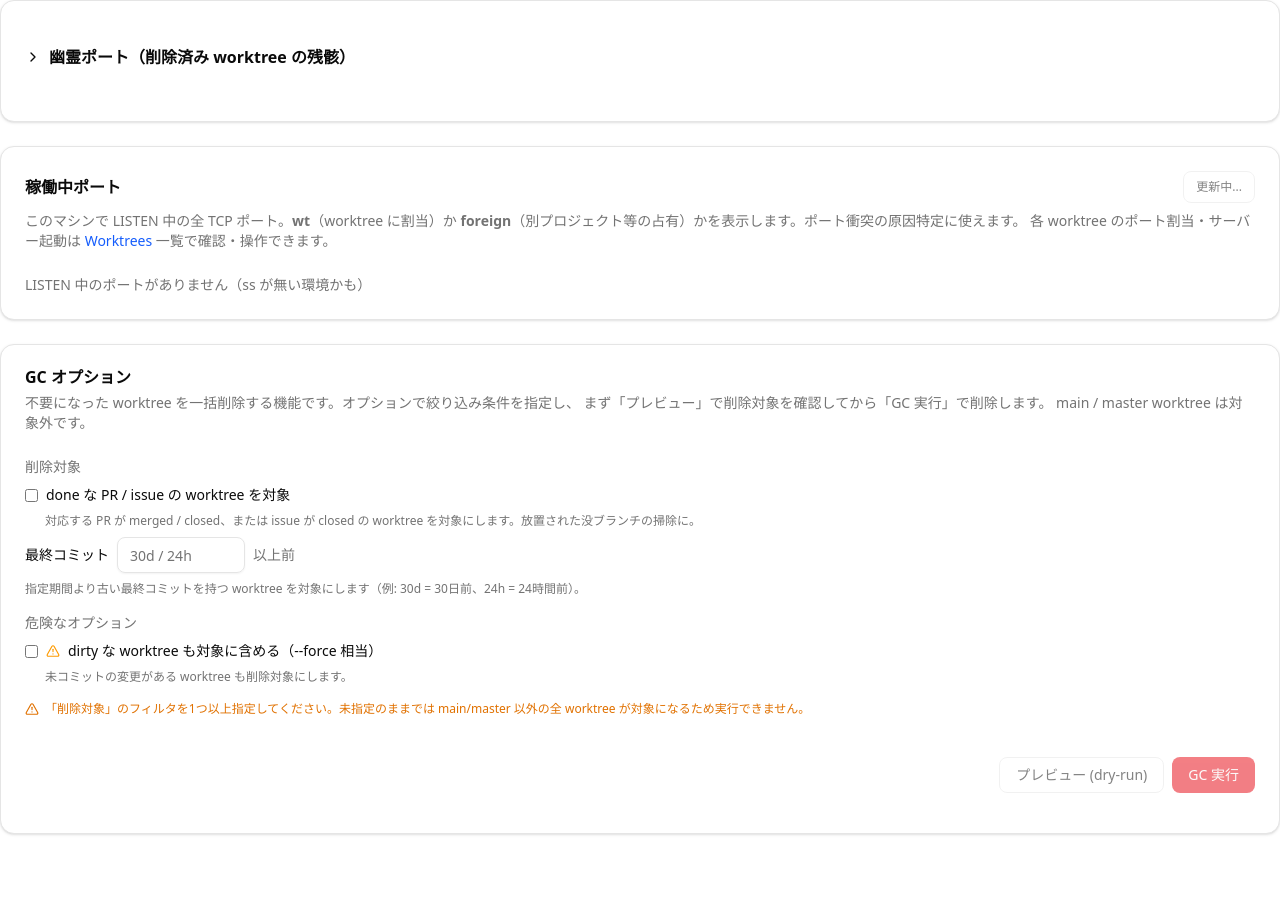
Test: MaintenancePage (Ports + GC combined) › labels the output as GC実行結果 after an actual (non-dry-run) execution
Click the checkbox labelled "done な PR / issue の worktree を対象" at (32, 495), box [25, 488, 38, 502]
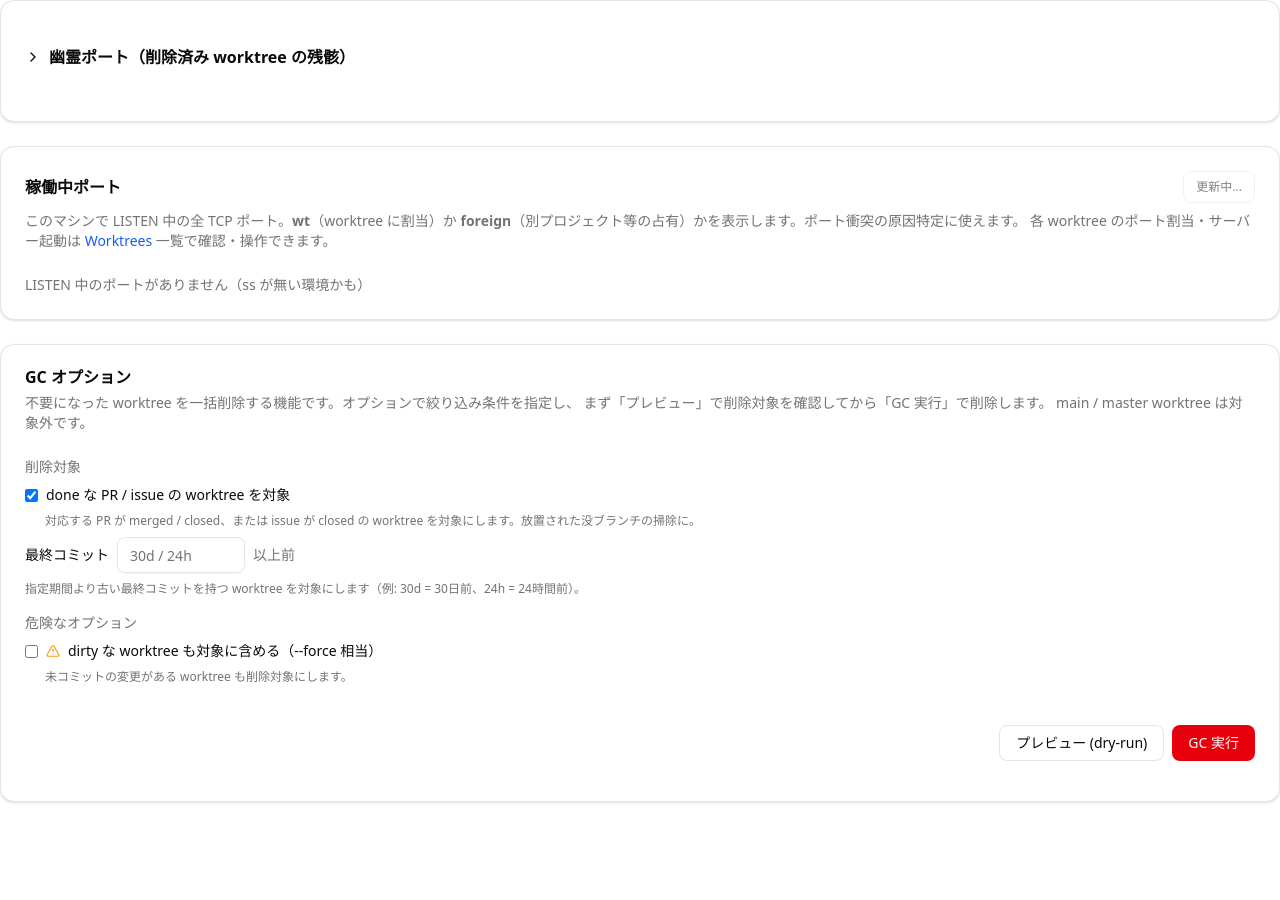
Click the button "GC 実行" at (1214, 743), box [1172, 725, 1255, 761]
(page scrolled)
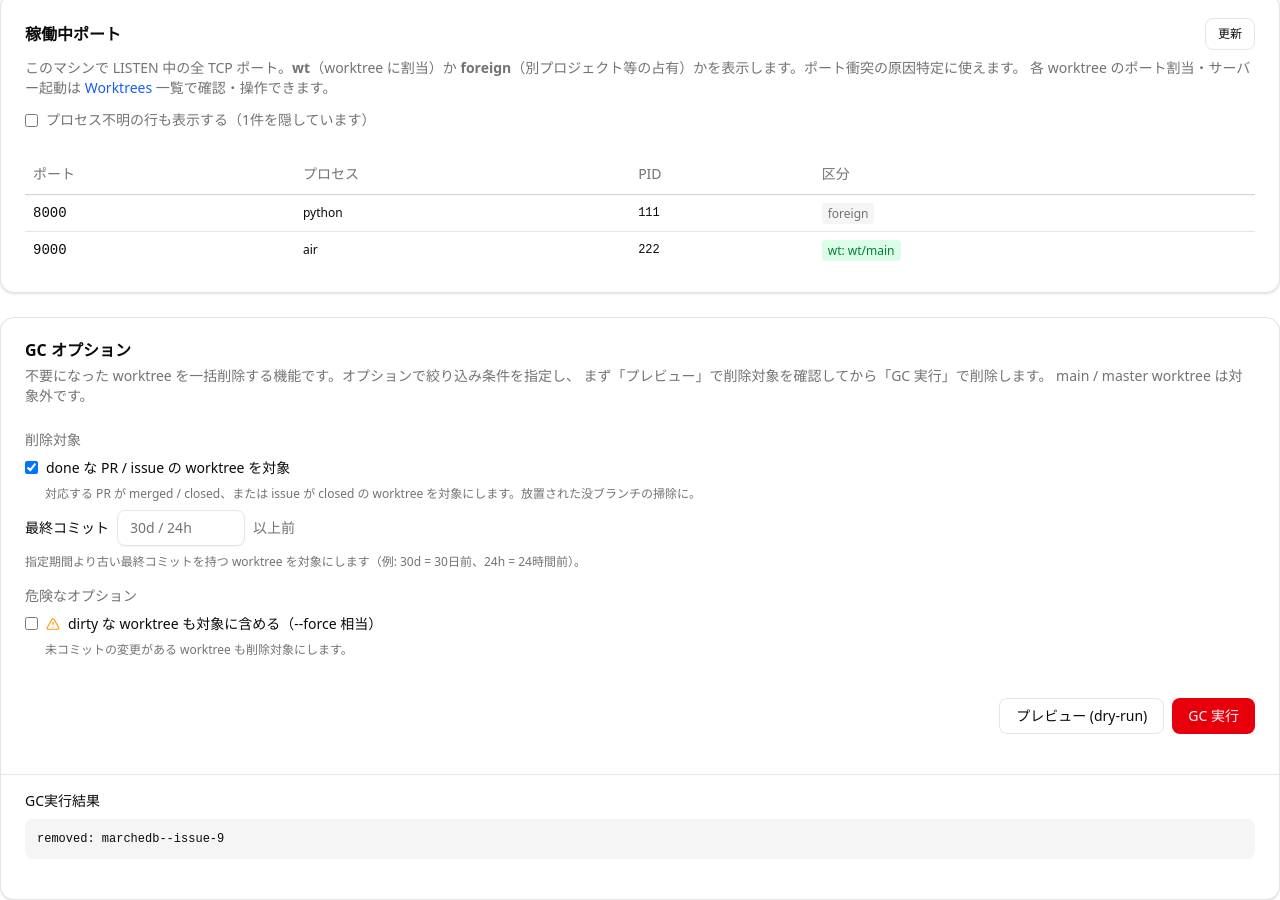
Expected: the text "removed: marchedb--issue-9" is shown, [25, 818, 1255, 858]
Expected: the heading "GC実行結果" is shown, [25, 790, 100, 810]
